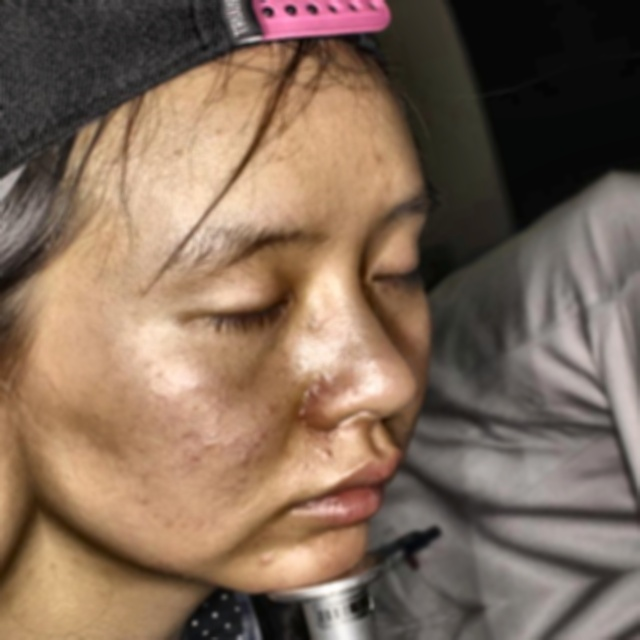comedone: (305, 370, 332, 404), (253, 547, 281, 574), (229, 445, 259, 468)
